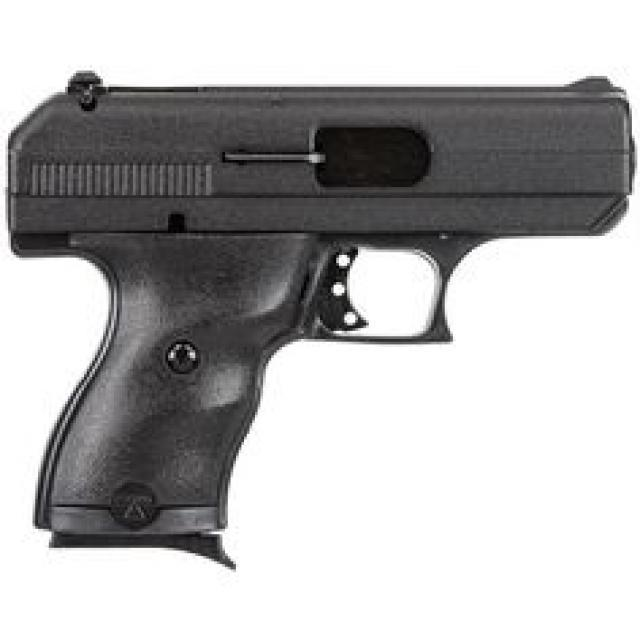semi automatic: (0, 46, 640, 570)
